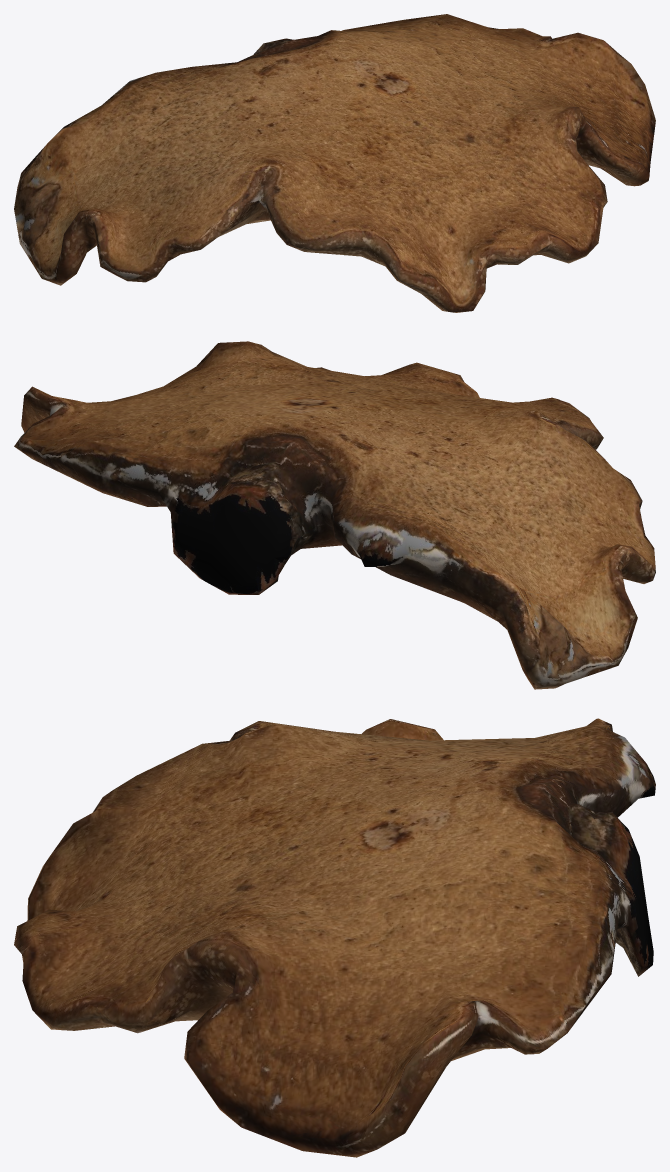
The model's file is dedale-du-chene.glb.
3 renders of one model, top to bottom at view 1: azimuth 30°, elevation 25°; view 2: azimuth 150°, elevation 25°; view 3: azimuth 270°, elevation 25°, orthographic. The views are drawn at different scales.
Visible parts, largest first — view 1: mushroom_05; view 2: mushroom_05; view 3: mushroom_05.
Boxes of the visible parts, <box> form: mushroom_05: <box>14,14,655,312</box>; mushroom_05: <box>14,341,655,689</box>; mushroom_05: <box>14,718,655,1157</box>.
Size of the model in its own units: 5.84 by 1.57 by 4.03.
1 material, 1 textured.
